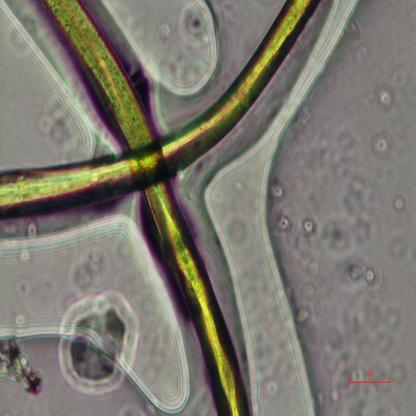Air bubble: (202, 0, 365, 414), (0, 215, 192, 414), (0, 1, 97, 169), (103, 0, 223, 101)
Background material: (326, 294, 408, 412), (58, 292, 143, 400), (323, 171, 370, 255), (275, 180, 320, 254), (0, 336, 46, 402), (14, 235, 44, 331), (27, 108, 75, 154), (296, 259, 322, 325), (14, 16, 44, 57), (365, 126, 395, 162), (344, 260, 379, 287), (364, 89, 391, 111), (392, 193, 408, 212)
Microfibre: (37, 0, 252, 416), (0, 0, 322, 219)
